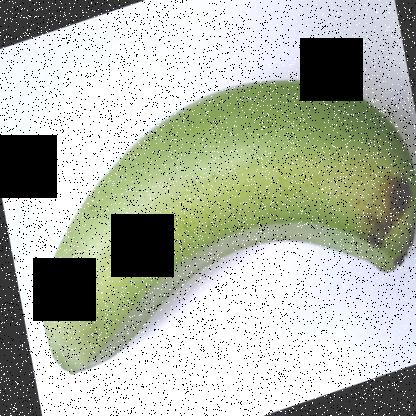freshunripe: (27, 71, 415, 387)
